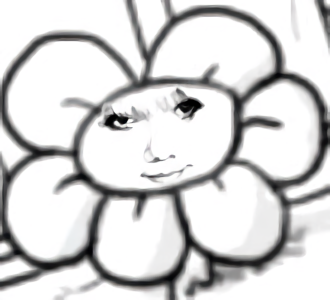dragon: (100, 95, 207, 182)
